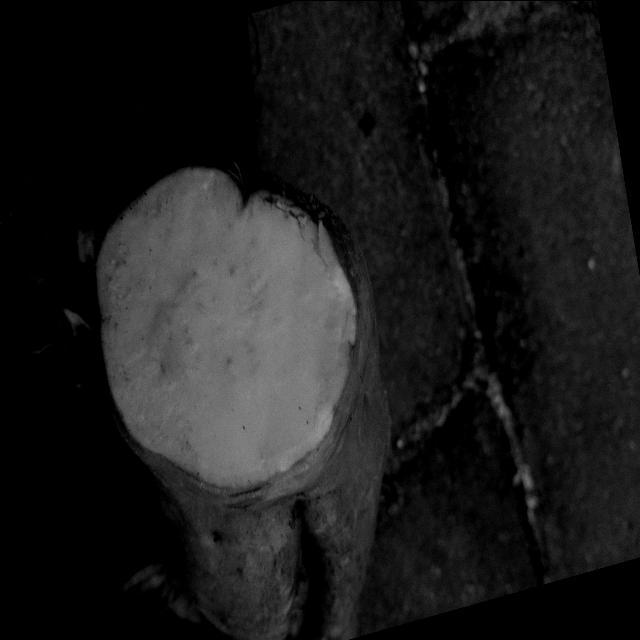Healthy Sweet Potato: (96, 165, 356, 487)
